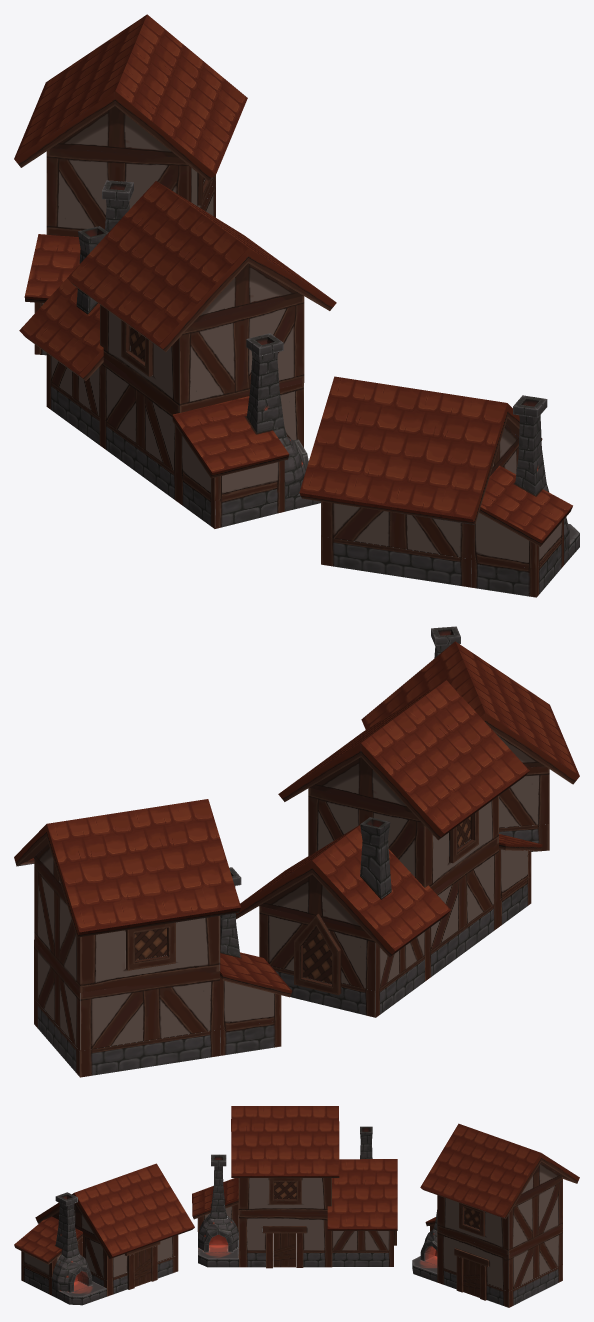
The model's file is ExportFBX.fbx.
3 views of the same model, one above another, from view 1: azimuth 30°, elevation 25°; view 2: azimuth 150°, elevation 25°; view 3: azimuth 270°, elevation 25° (orthographic). The views are drawn at different scales.
Visible parts, largest first — view 1: Cube.019, Cube.011, Cube.010, Cube.006, Cube.028, Cube.029, Cube.005, Cube.001, Cube.007, Cube.000; view 2: Cube.007, Cube.006, Cube.028, Cube.001, Cube.000, Cube.005, Cube.011, Cube.029, Cube.019, Cube.010; view 3: Cube.010, Cube.019, Cube.006, Cube.028, Cube.011, Cube.007, Cube.005, Cube.001, Cube.029, Cube.000, Cube.004, Cube.009 (+1 smaller).
Part boxes in pixels (bbox=[...]): Cube.019: bbox=[99, 333, 320, 528]; Cube.011: bbox=[299, 376, 542, 524]; Cube.010: bbox=[321, 395, 579, 597]; Cube.006: bbox=[14, 14, 247, 180]; Cube.028: bbox=[67, 181, 336, 351]; Cube.029: bbox=[100, 296, 304, 412]; Cube.005: bbox=[46, 148, 215, 236]; Cube.001: bbox=[19, 226, 108, 380]; Cube.007: bbox=[24, 180, 215, 355]; Cube.000: bbox=[46, 353, 99, 444]; Cube.007: bbox=[34, 867, 292, 1077]; Cube.006: bbox=[14, 799, 240, 937]; Cube.028: bbox=[278, 680, 529, 840]; Cube.001: bbox=[235, 817, 450, 957]; Cube.000: bbox=[259, 906, 424, 1017]; Cube.005: bbox=[34, 859, 220, 992]; Cube.011: bbox=[361, 641, 579, 784]; Cube.029: bbox=[308, 788, 498, 890]; Cube.019: bbox=[425, 834, 542, 981]; Cube.010: bbox=[431, 626, 549, 851]; Cube.010: bbox=[14, 1192, 178, 1305]; Cube.019: bbox=[192, 1154, 332, 1268]; Cube.006: bbox=[420, 1123, 579, 1219]; Cube.028: bbox=[231, 1106, 339, 1177]; Cube.011: bbox=[35, 1163, 194, 1258]; Cube.007: bbox=[412, 1210, 562, 1307]; Cube.005: bbox=[437, 1177, 562, 1254]; Cube.001: bbox=[327, 1126, 397, 1230]; Cube.029: bbox=[238, 1178, 331, 1214]; Cube.000: bbox=[332, 1231, 396, 1266]; Cube.004: bbox=[273, 1233, 295, 1267]; Cube.009: bbox=[134, 1247, 151, 1286].
Size of the model in its own units: 802 by 585 by 2093.
